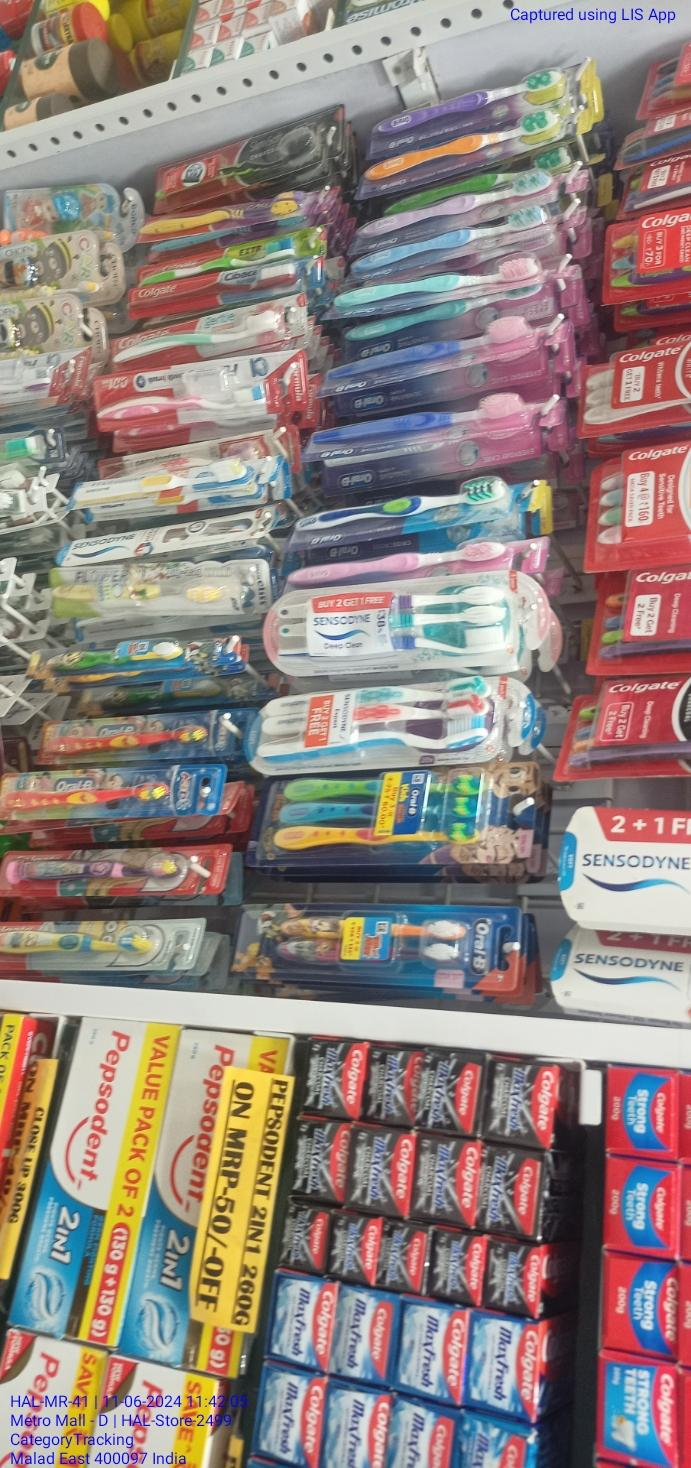5: (270, 299, 312, 906)
6: (318, 332, 361, 946)
soap: (60, 744, 89, 1139)
